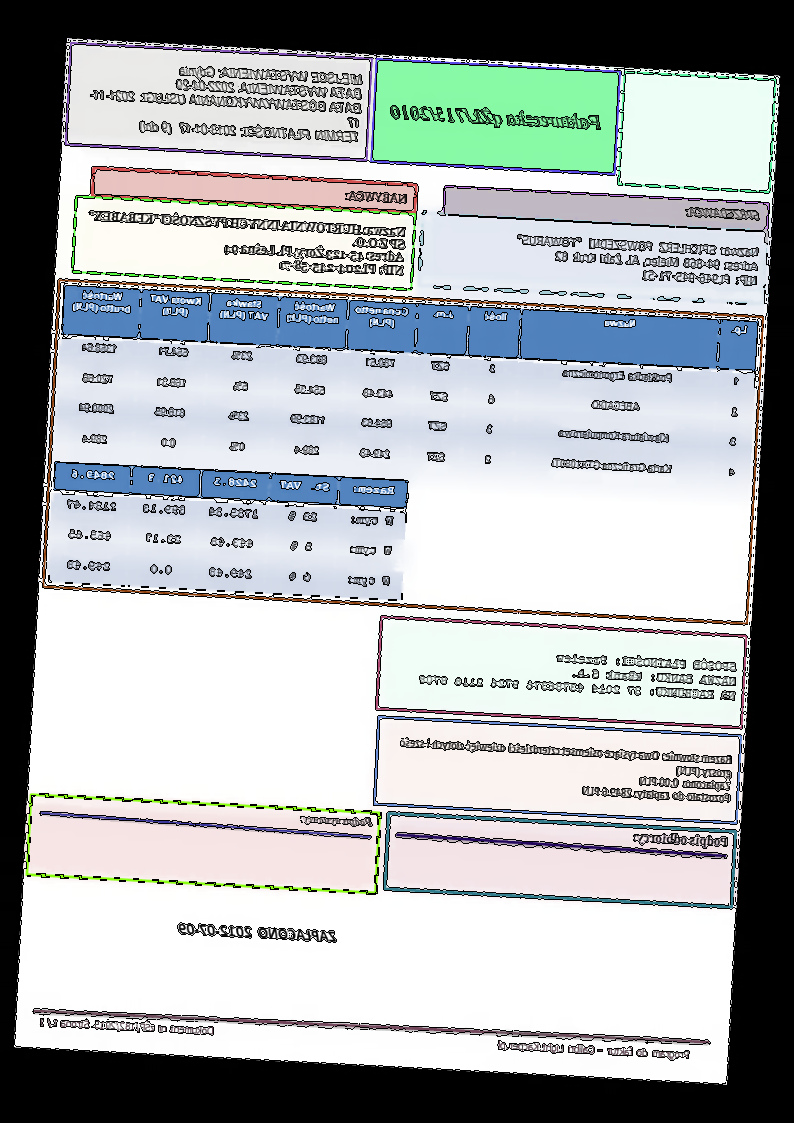Table: (56, 281, 760, 495), (47, 459, 409, 603)
TextBox: (86, 56, 365, 149), (397, 733, 735, 807), (82, 207, 409, 279), (416, 642, 740, 705), (513, 228, 763, 291), (388, 99, 607, 135), (496, 1036, 693, 1064), (36, 1013, 216, 1039), (175, 918, 339, 945), (632, 827, 732, 852), (299, 808, 376, 829), (685, 202, 763, 222), (345, 187, 411, 208)
